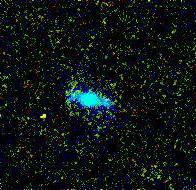star: (29, 101, 59, 131)
